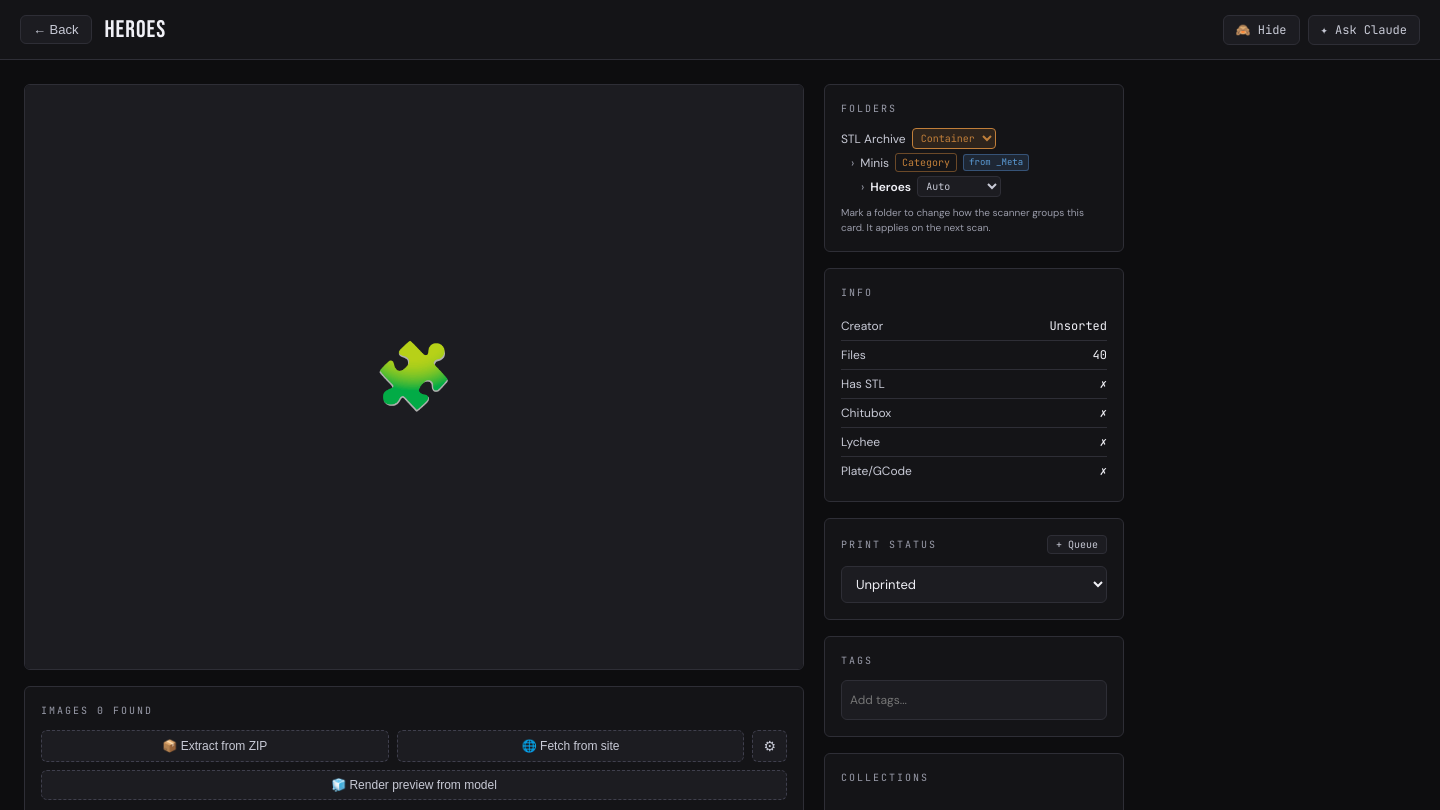
Card detail → Folders breadcrumb › "this card is really the Heroes category" is one change from the card
Select "Category" in the dropdown named "Role for Heroes": (959, 186) [917, 176, 1001, 197]
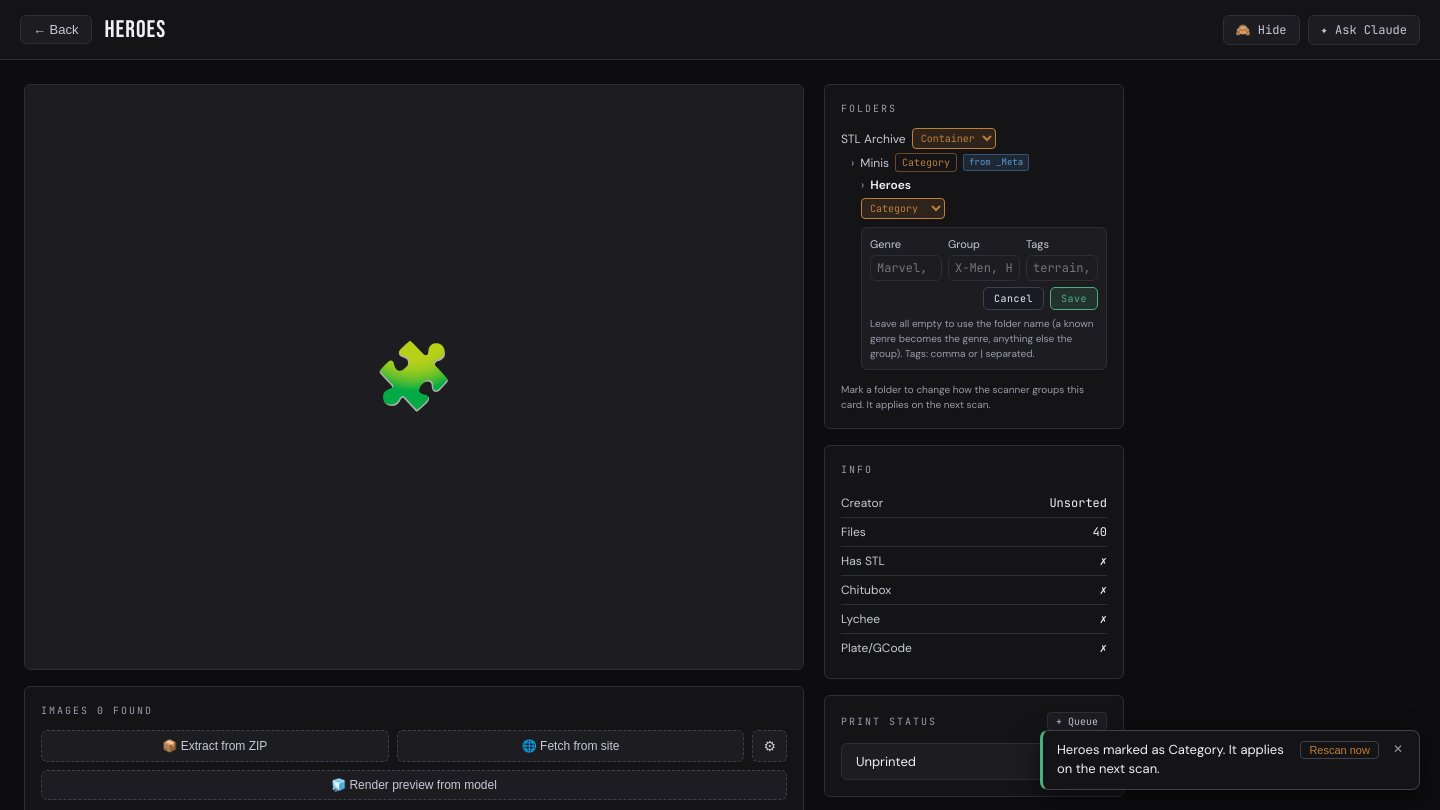
Now the text "Heroes marked as Category. It applies on the next scan." is shown, box [1057, 741, 1290, 779]
Now the button "Rescan now" is shown, box [1300, 741, 1379, 759]
Now the form named "Category values for Heroes" is shown, box [861, 227, 1107, 370]
